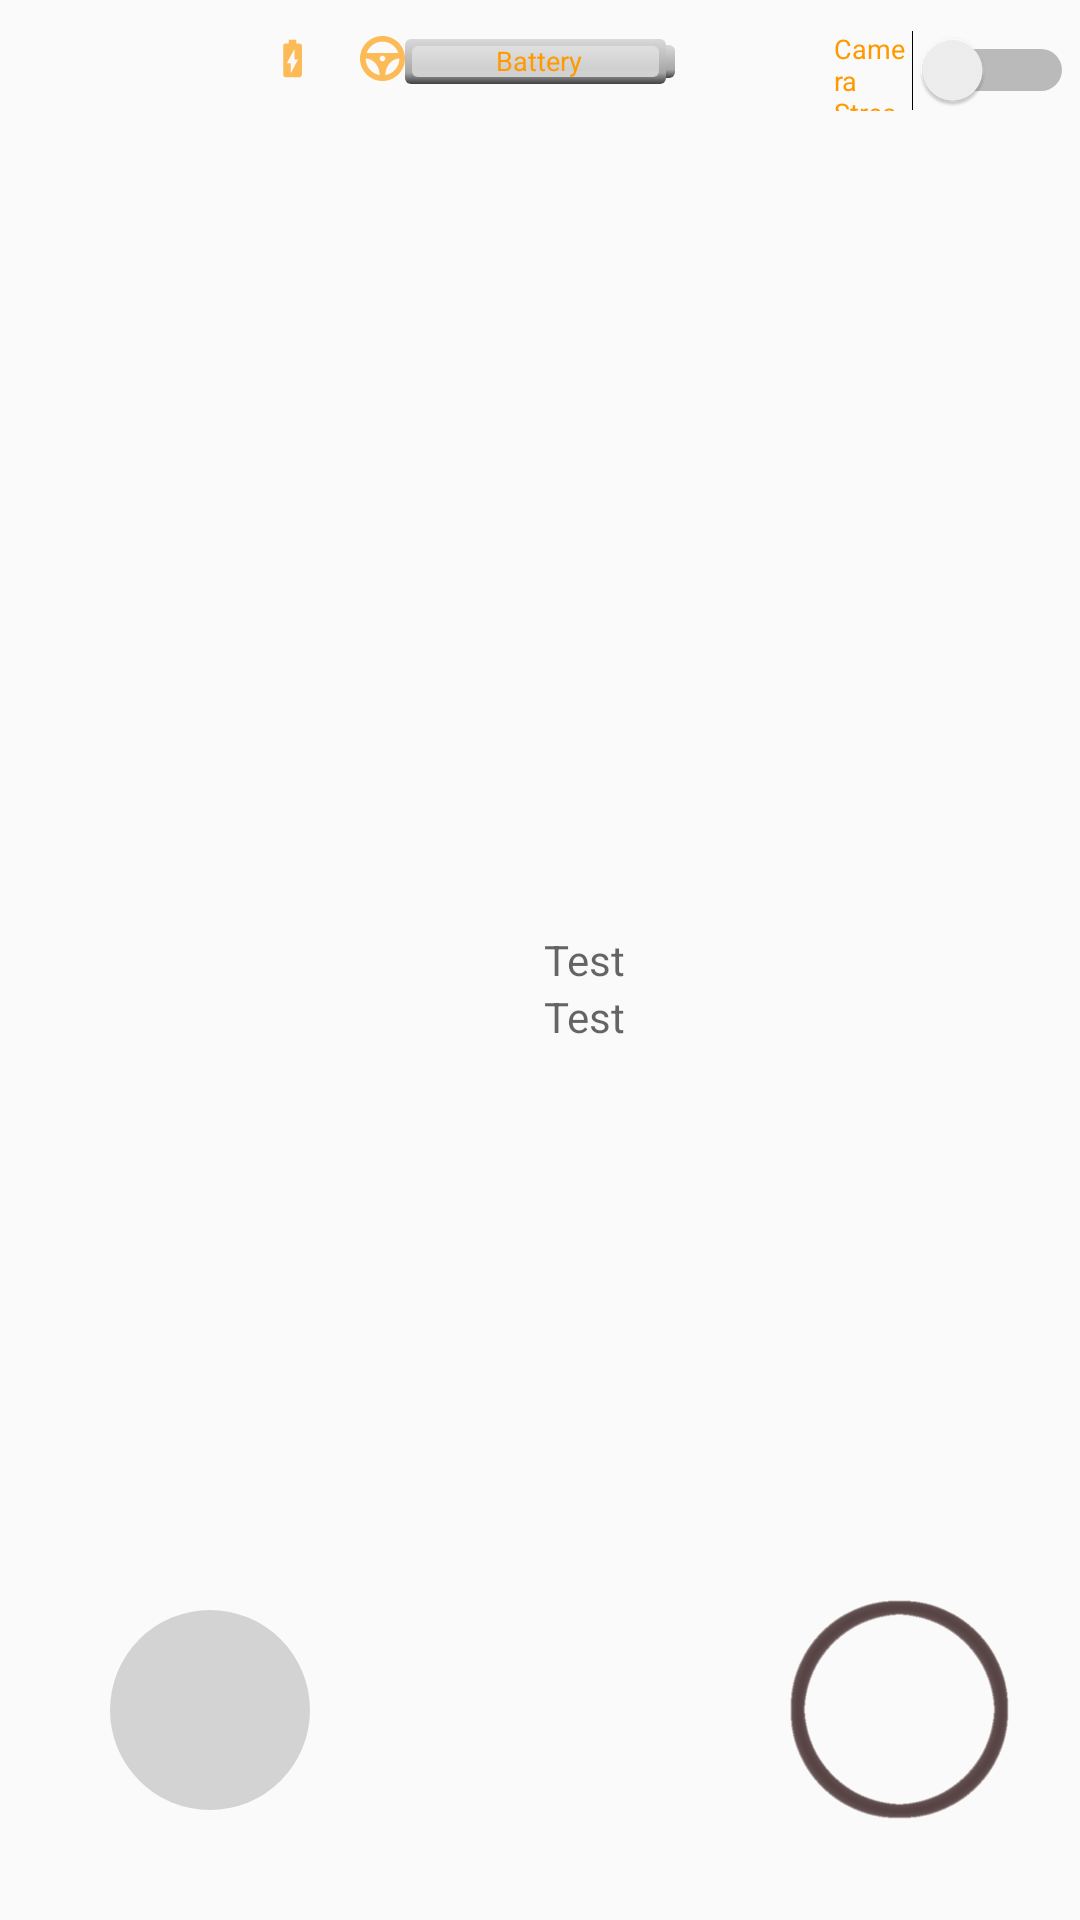

Named icons in this screenshot (1080px x 1920px) and their centers, (x,y):
batterysaving: (292,58)
wheel: (382,58)
